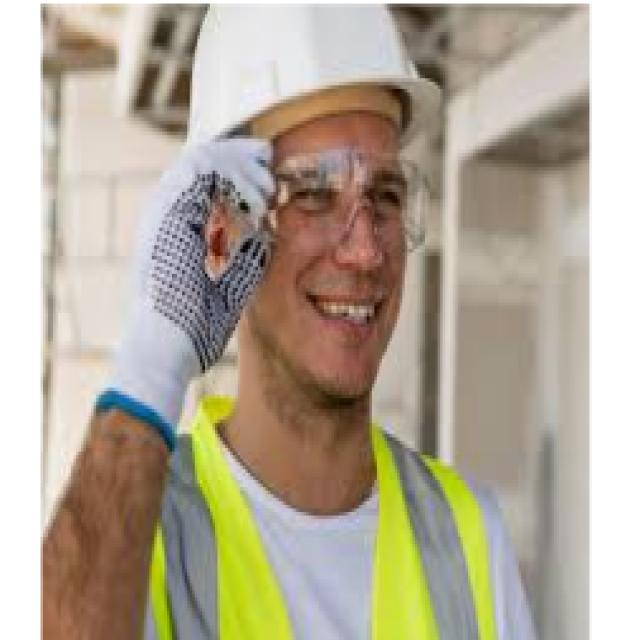glasses: (251, 147, 442, 248)
